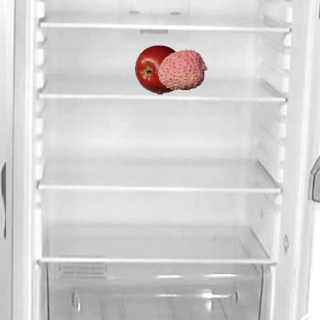Apple Braeburn: (134, 44, 184, 94)
Lychee: (157, 44, 207, 94)
